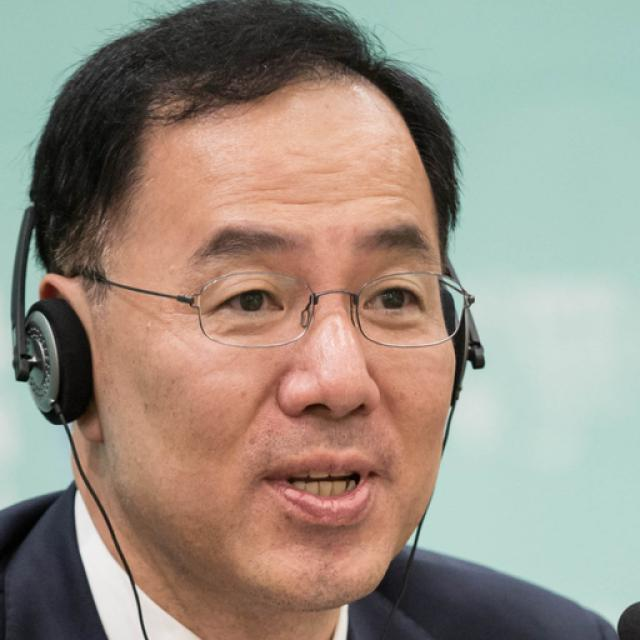Acne: (139, 319, 153, 332)
Wrinkle: (263, 182, 424, 208), (218, 177, 300, 196), (297, 159, 343, 180)
